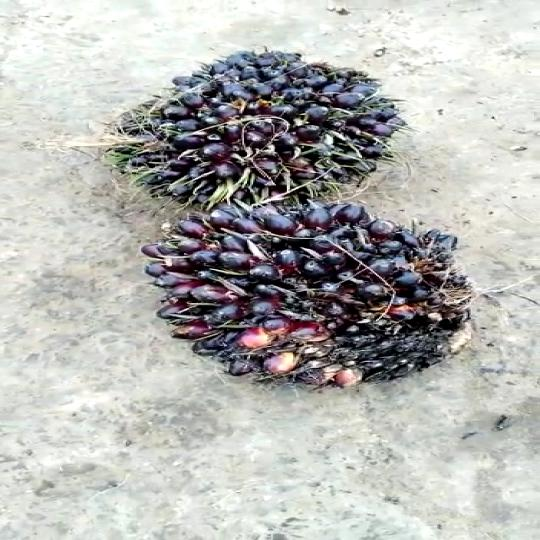mentah: (133, 201, 489, 392), (118, 43, 410, 204)
